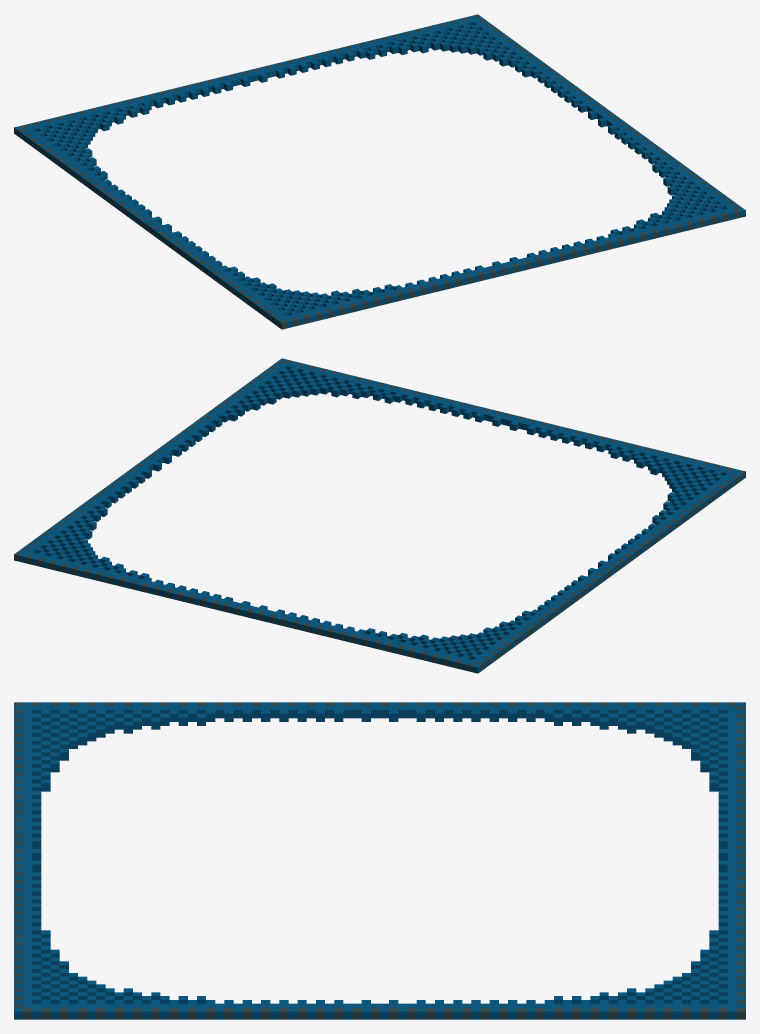
The model's file is flyable_tile.obj.
3 views of the same model, one above another, from view 1: azimuth 30°, elevation 25°; view 2: azimuth 150°, elevation 25°; view 3: azimuth 270°, elevation 25° (orthographic). The views are drawn at different scales.
Bounding box in the file's own units: 8 × 0.1 × 8.
Materials: 1 (1 with a texture image).
